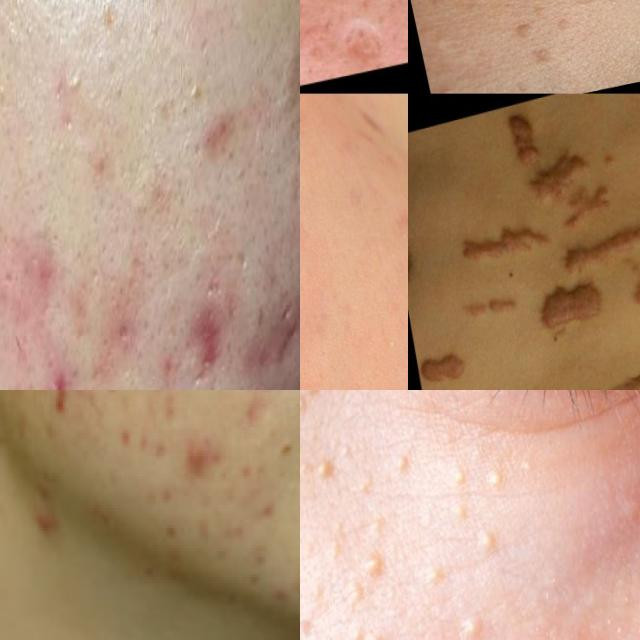acne_scars: (310, 0, 408, 77)
flat_wart: (502, 11, 542, 50), (526, 45, 561, 69), (434, 73, 466, 94), (553, 8, 575, 36)
keloid: (518, 322, 640, 390), (552, 204, 640, 286), (450, 210, 556, 278), (515, 140, 602, 212), (529, 270, 611, 336), (552, 173, 620, 236), (456, 282, 522, 330), (503, 103, 544, 175), (415, 341, 473, 390)
milium: (448, 462, 510, 520), (344, 550, 388, 612), (311, 433, 355, 484), (442, 608, 487, 640), (336, 620, 403, 640), (473, 524, 503, 561), (423, 560, 450, 592), (300, 390, 327, 414), (392, 445, 411, 478)
